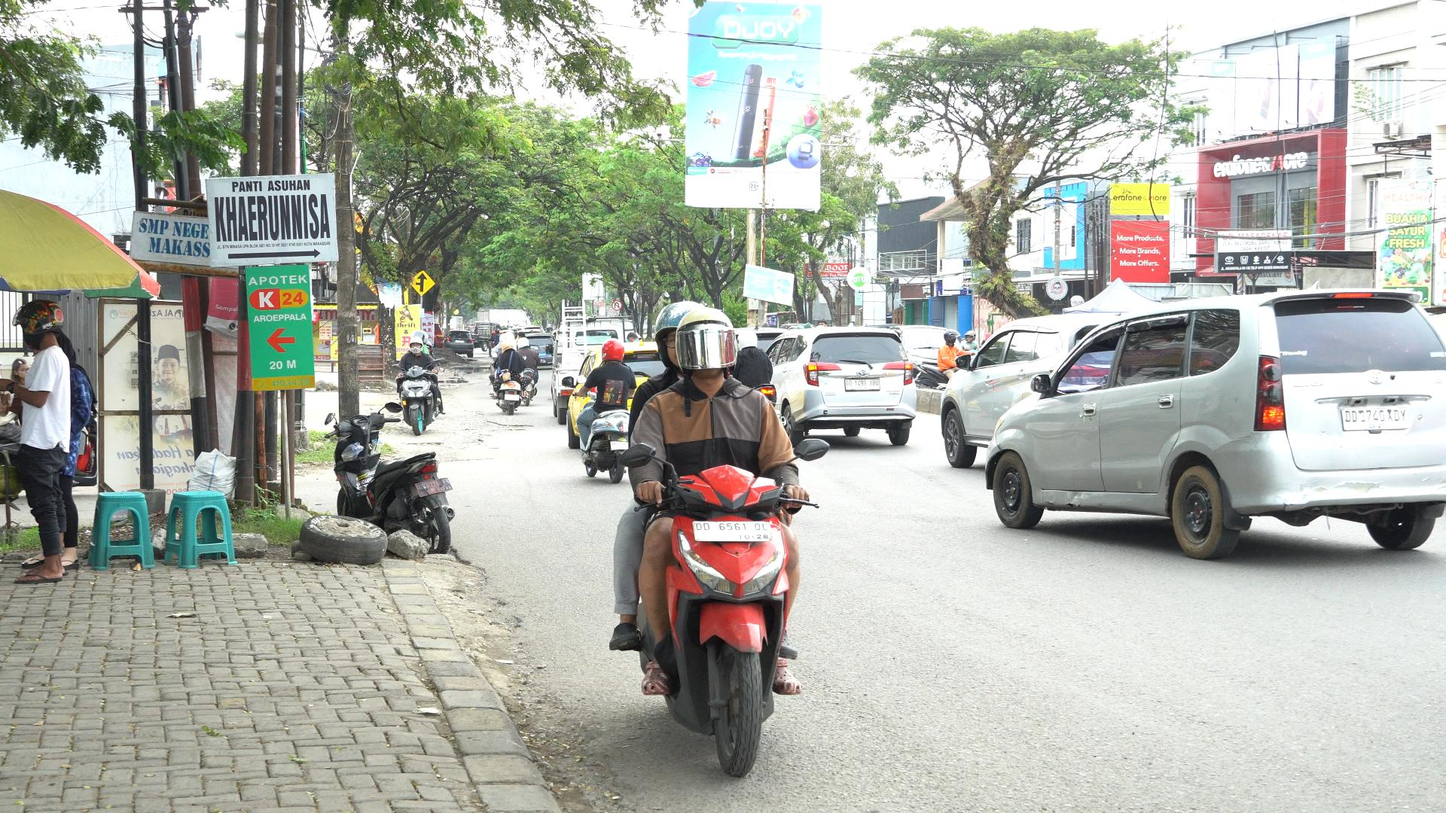number-plate: (688, 513, 775, 548)
